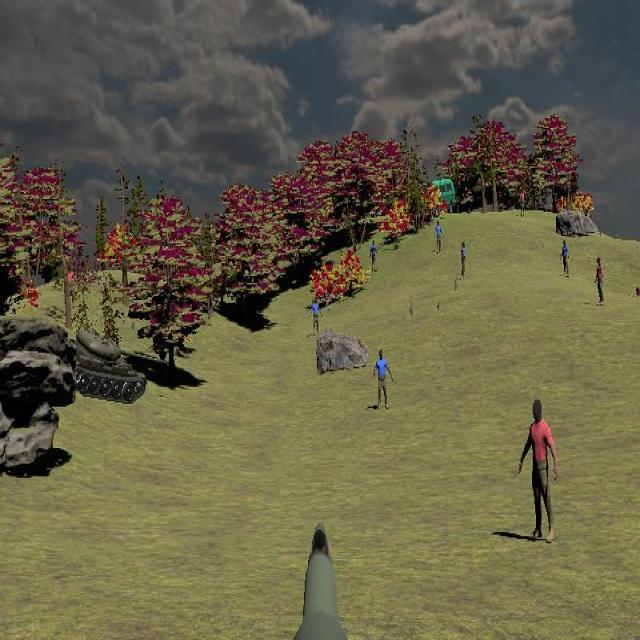Human: (518, 399, 558, 543), (372, 349, 393, 410), (310, 297, 322, 336), (595, 257, 604, 306)
Tank: (54, 329, 148, 405)
